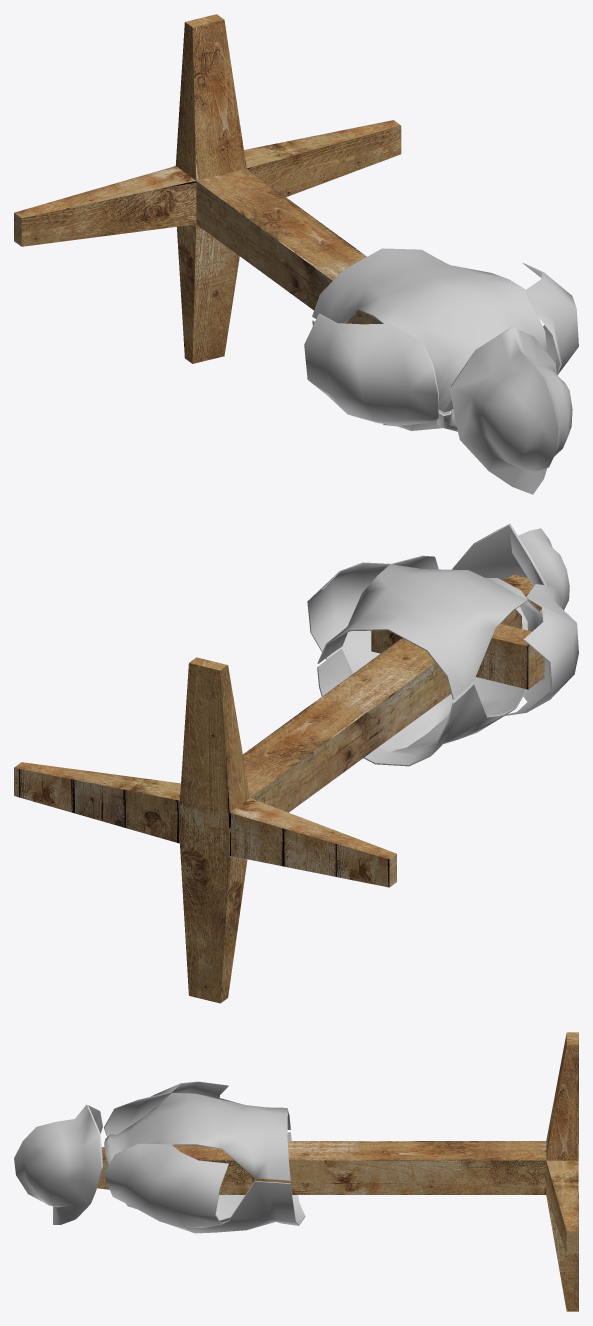
Rendered from armorstand.fbx.
3 views of the same model, one above another, from view 1: azimuth 30°, elevation 25°; view 2: azimuth 150°, elevation 25°; view 3: azimuth 270°, elevation 25° (orthographic). The views are drawn at different scales.
Visible parts, largest first — view 1: object; view 2: object; view 3: object.
Part boxes in pixels (x1,y1,x2,y2): object: (14, 14, 578, 494); object: (14, 523, 578, 1003); object: (14, 1032, 578, 1311).
Bounding box in the file's own units: 94.88 × 80.36 × 154.
